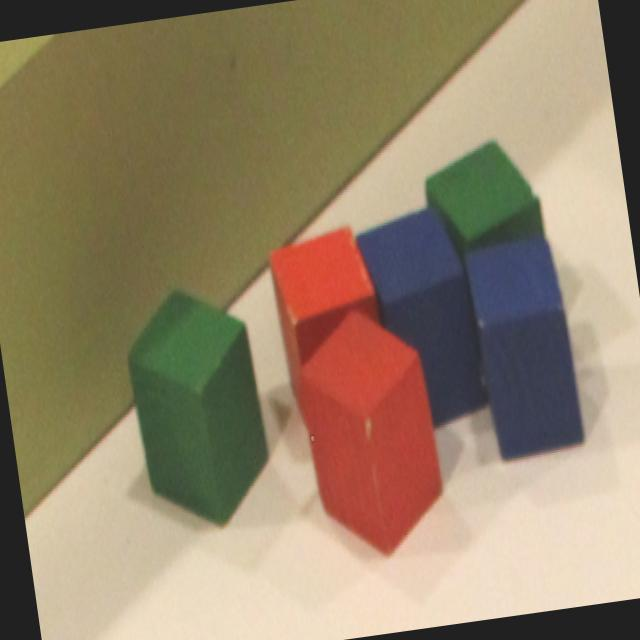bluecube: (355, 203, 491, 428), (467, 234, 584, 457)
green cube: (127, 286, 273, 528), (428, 134, 544, 246)
red cube: (302, 305, 447, 560), (270, 226, 379, 426)
